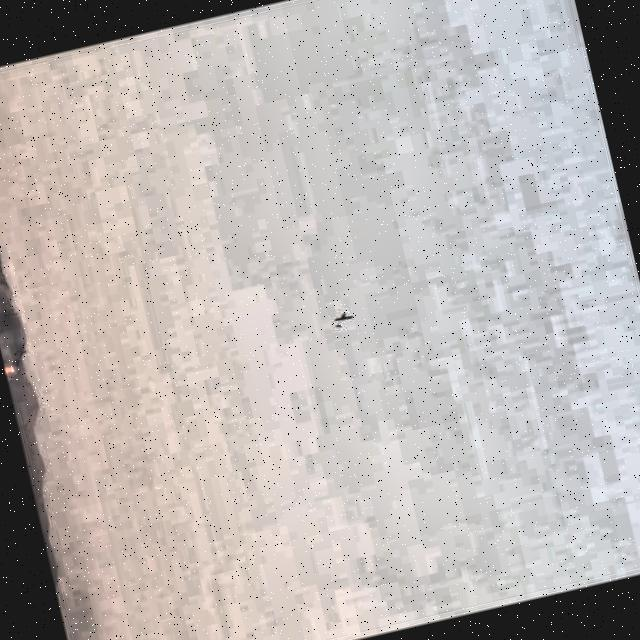iha: (308, 311, 370, 324)
